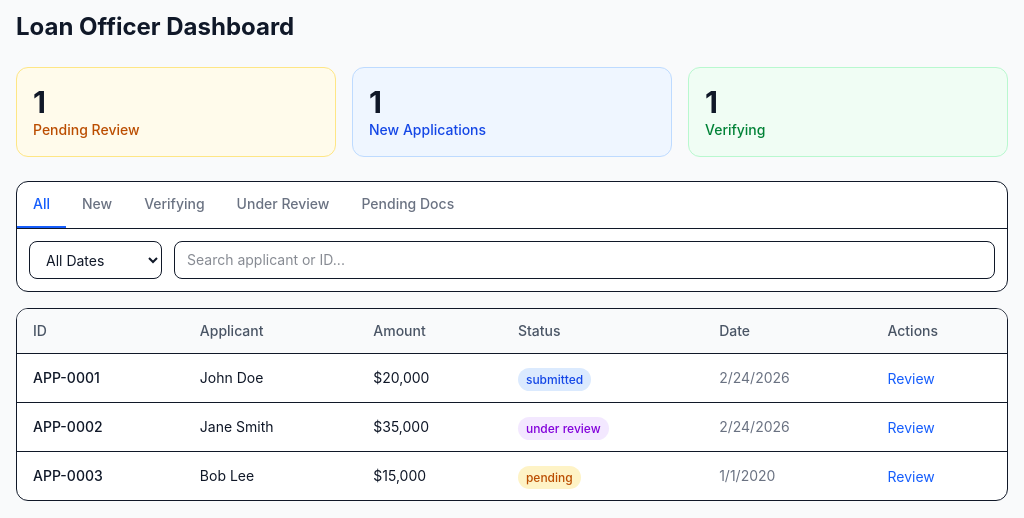
LoanOfficerDashboard › filters by date range
The width and height of the screenshot is (1024, 518).
Expected: the element with test id "filters" is shown, left=17, top=229, right=1007, bottom=291
Select "Last 7 Days" in the dropdown named "Date range" at (96, 260), box left=29, top=241, right=162, bottom=279
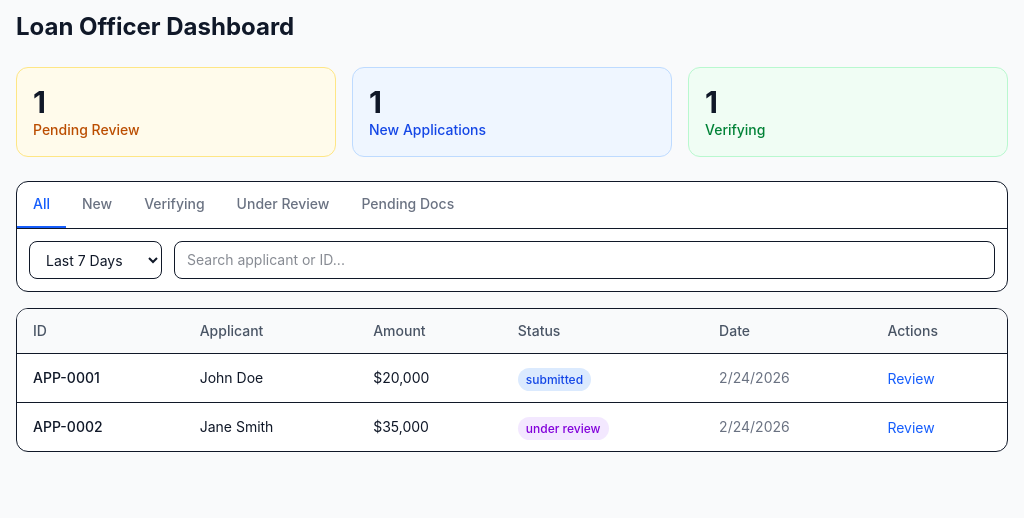
Result: the number of rows with test id "app-row" is 2 at left=17, top=354, right=1007, bottom=402; left=17, top=402, right=1007, bottom=451
